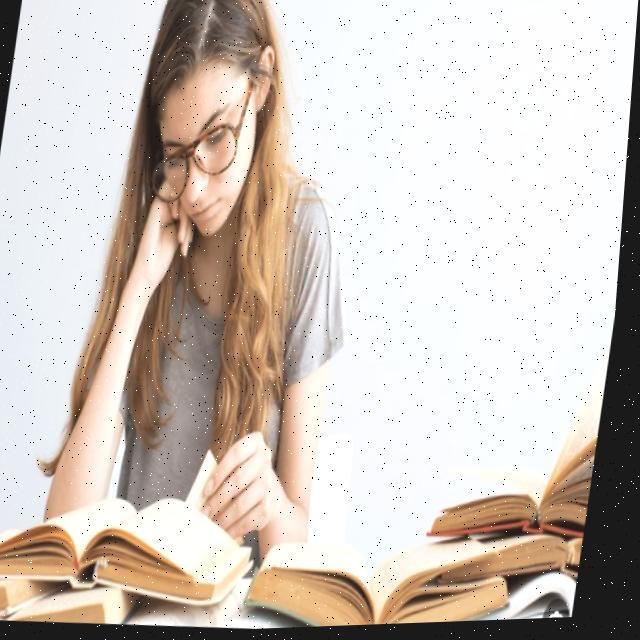studying-person: (0, 0, 619, 631)
